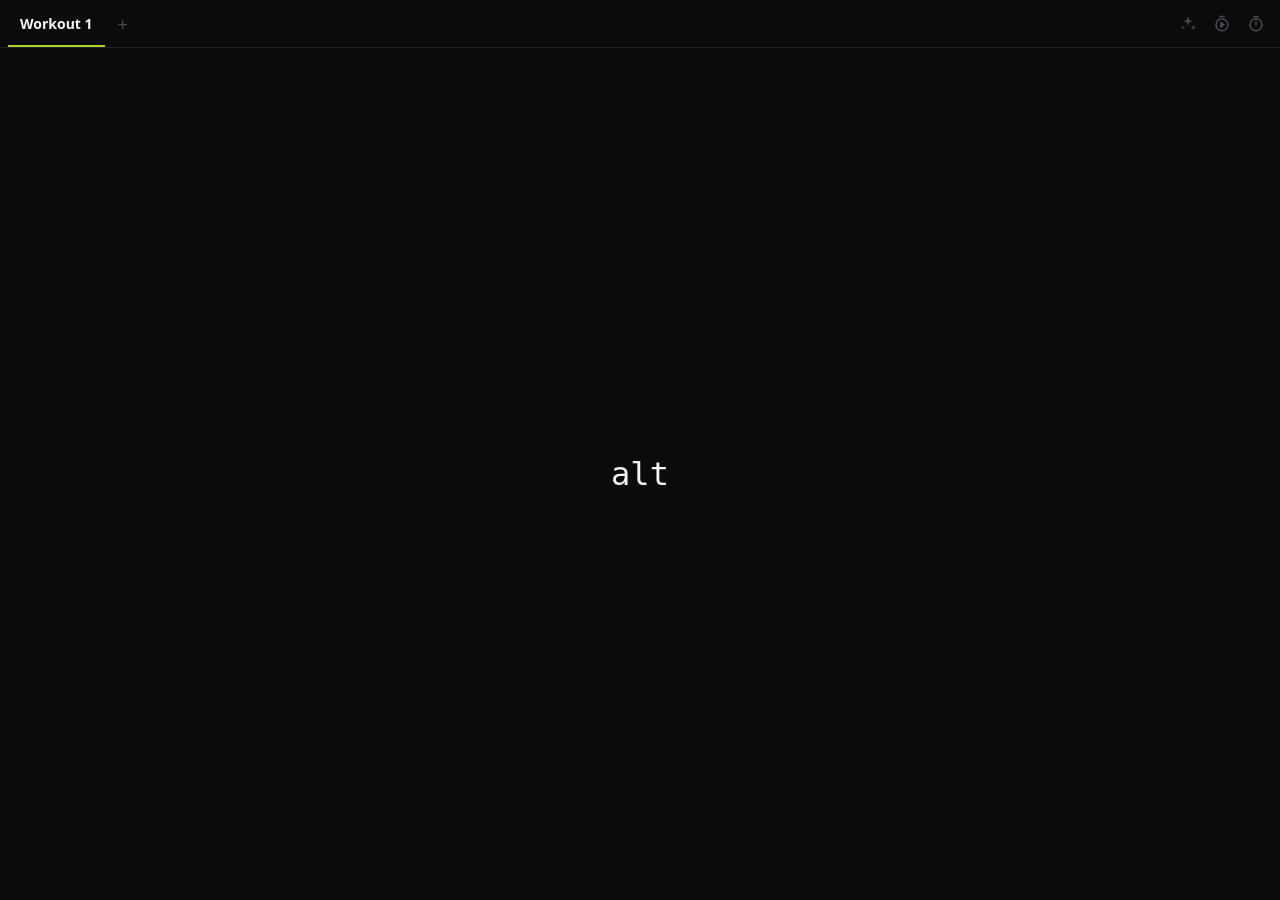
Test case: WorkoutEditor AI-Generierung › lässt den Tab-Inhalt bei Fehler unberührt
The image size is (1280, 900).
Click the button named "Workout mit AI erstellen": coordinates (1188, 24) [1172,8,1204,40]
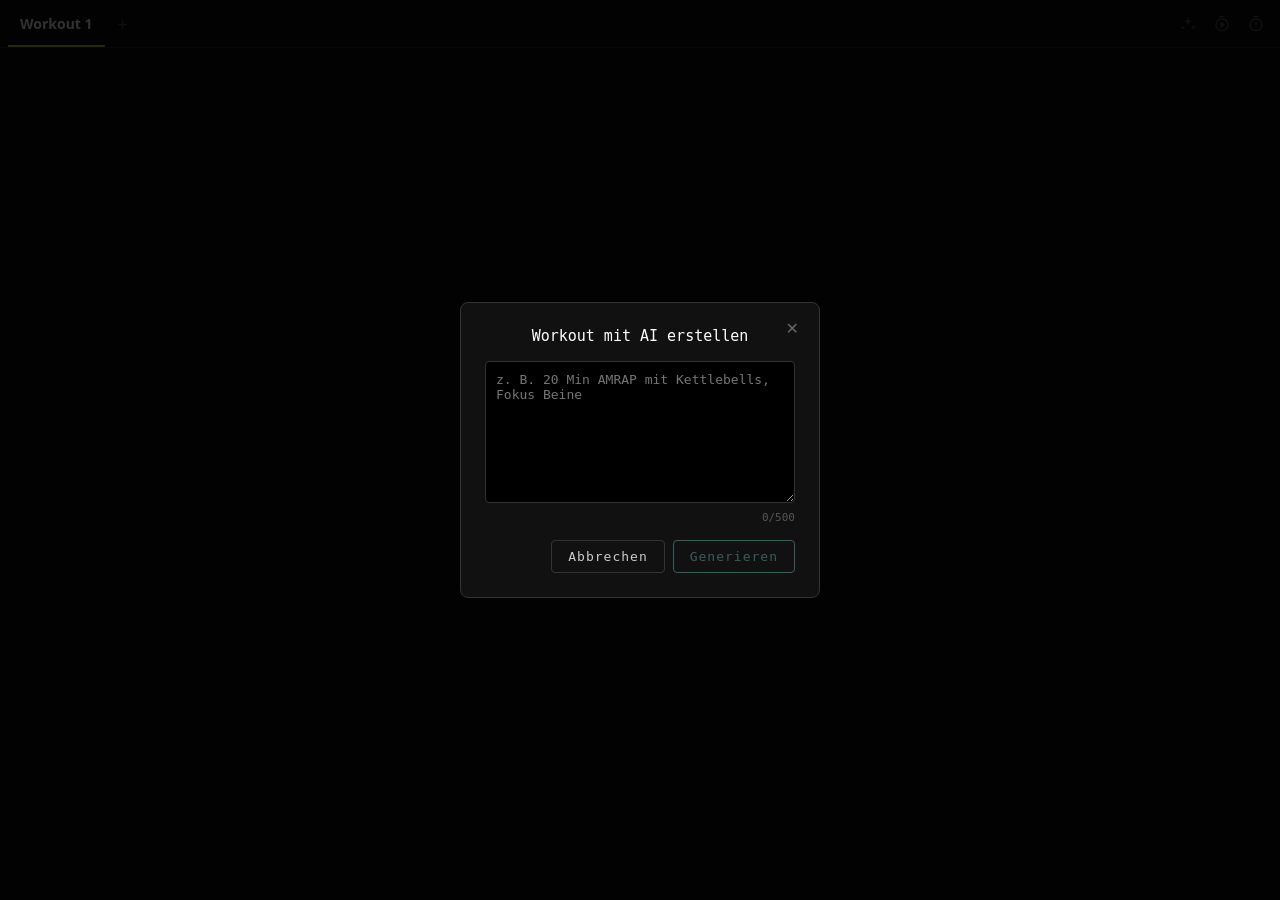
In the text box with class "gen-input": coordinates (640, 432) [485,361,795,503], type "Fran"
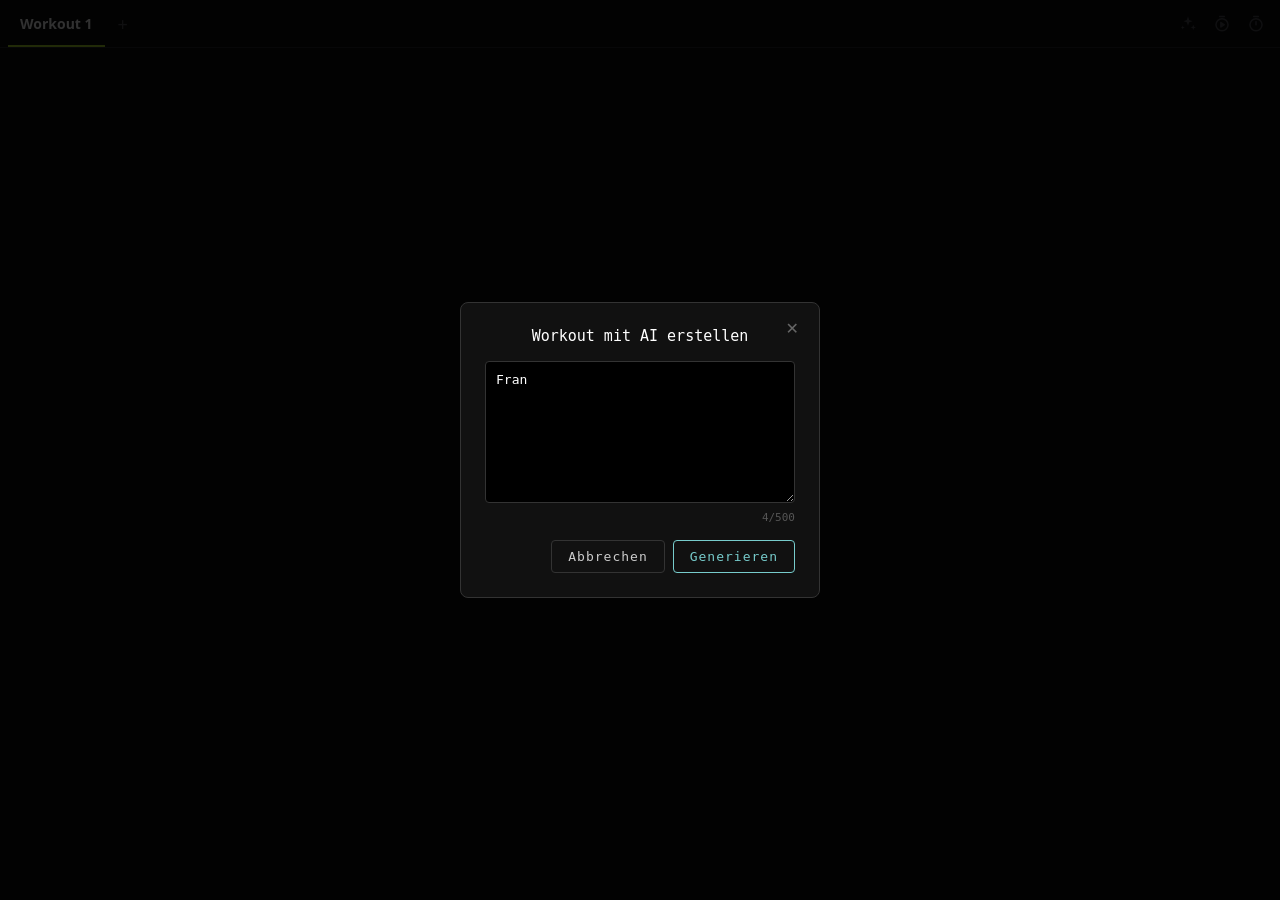
Click the button with class "btn-generate": coordinates (734, 556) [673,540,795,573]
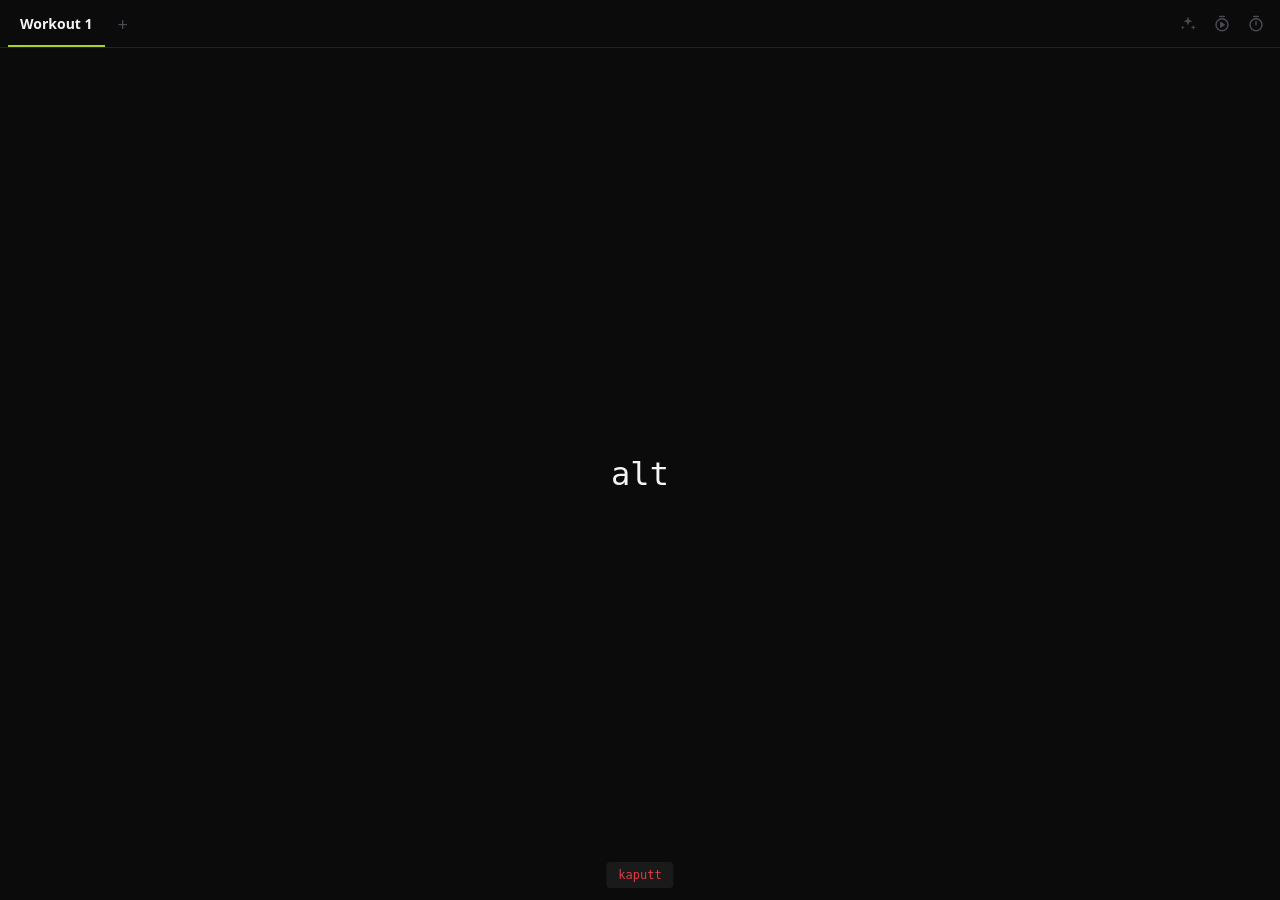
Expected: the field labelled "alt" is shown, [611,455,669,493]
Expected: the text "kaputt" is shown, [606,862,674,888]
